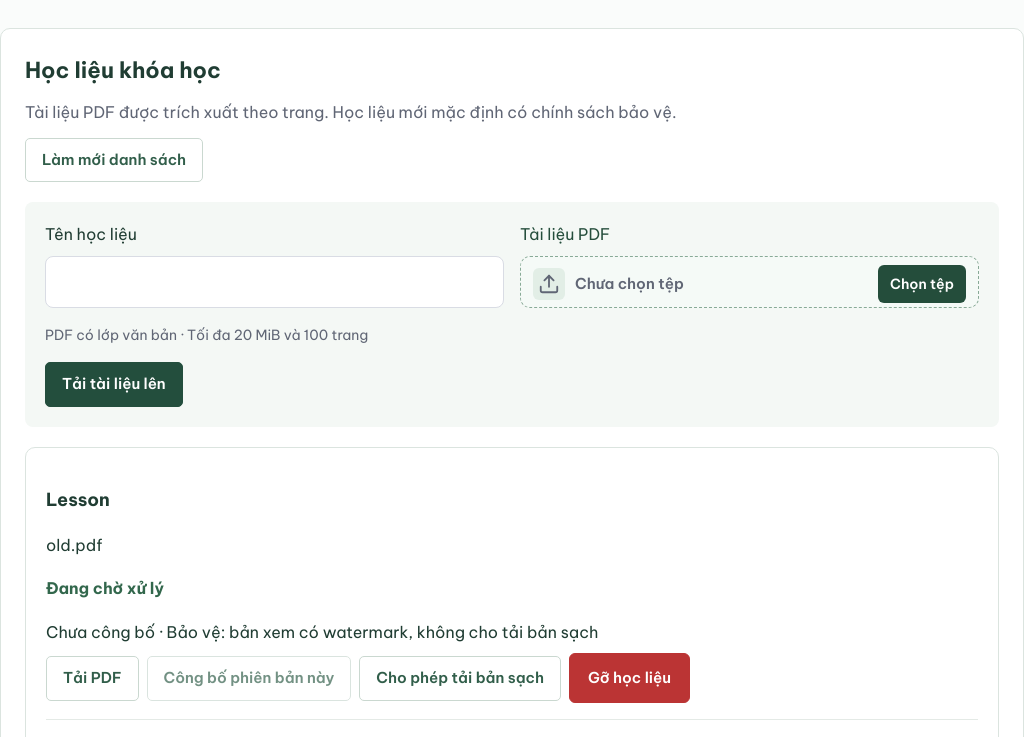
Test case: course materials › does not overwrite a refreshed version with an outstanding old status
This screenshot has width=1024, height=737.
Click the button "Làm mới danh sách": (114, 160) [25,138,203,182]
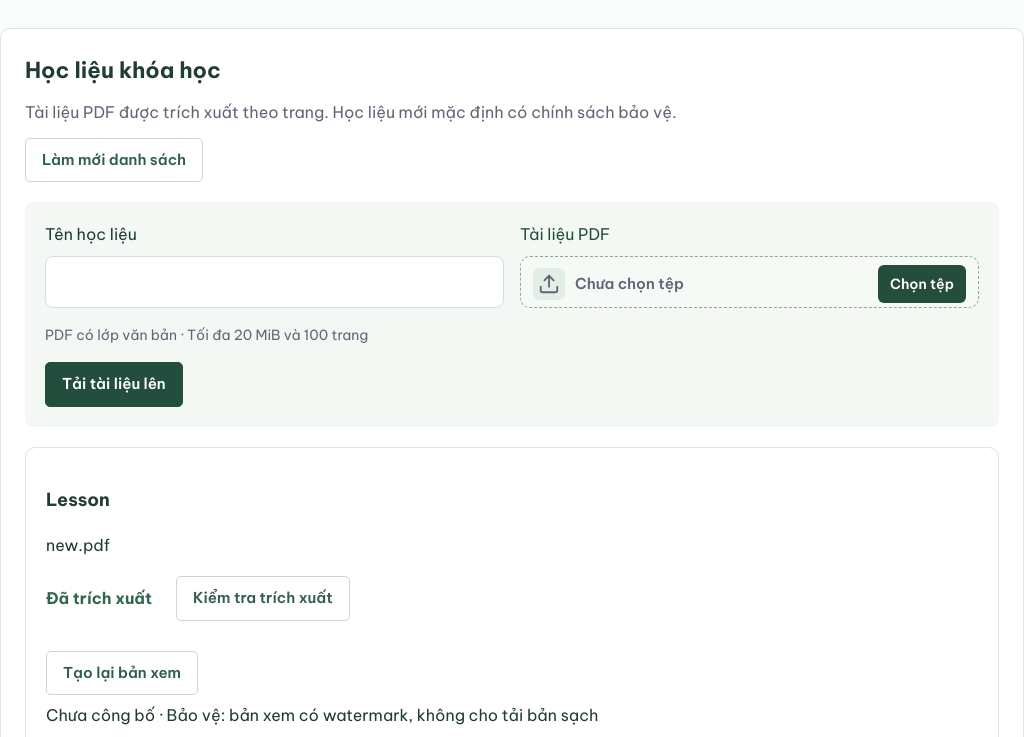
Check: the text "new.pdf" is shown, box [46,535,110,555]
Check: the text "old.pdf" is gone
